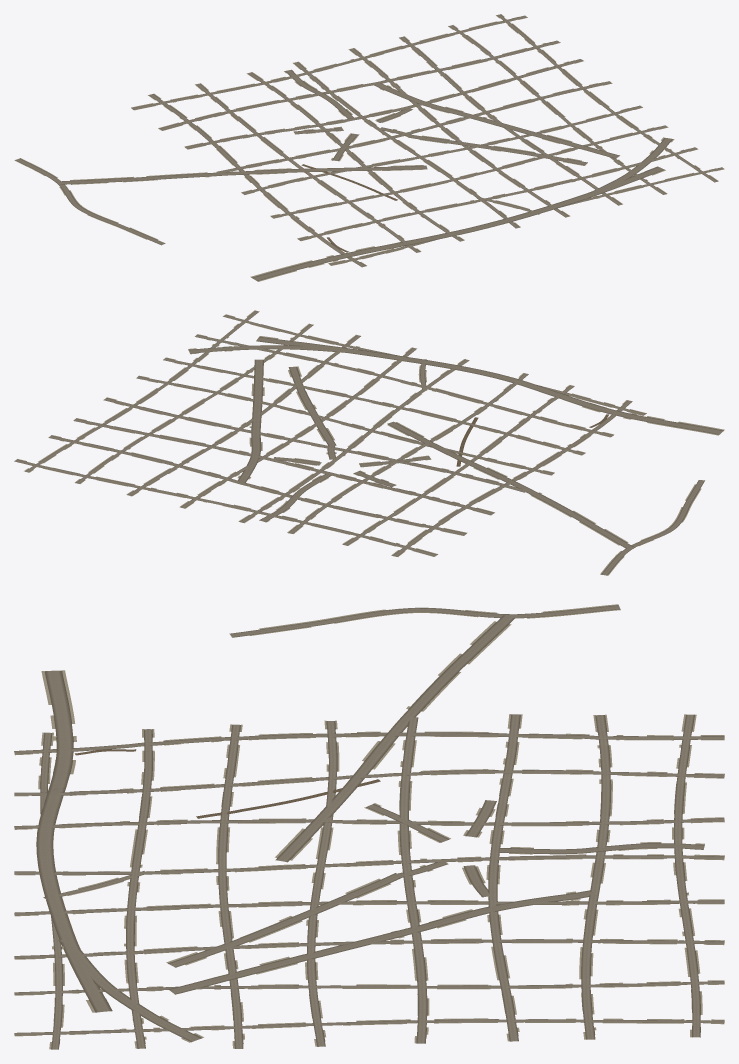
File: city_roads.gltf
3 views of the same model, one above another, from view 1: azimuth 30°, elevation 25°; view 2: azimuth 150°, elevation 25°; view 3: azimuth 270°, elevation 25° (orthographic). The views are drawn at different scales.
Visible parts, largest first — view 1: SM_roads_cobble_base, SM_roads_sidewalk_concrete, SM_roads_curb_granite; view 2: SM_roads_cobble_base, SM_roads_sidewalk_concrete, SM_roads_curb_granite; view 3: SM_roads_cobble_base, SM_roads_sidewalk_concrete, SM_roads_curb_granite, SM_roads_dirt_road.
Part boxes in pixels (x1,y1,x2,y2): SM_roads_cobble_base: (15, 14, 723, 281); SM_roads_sidewalk_concrete: (14, 14, 724, 281); SM_roads_curb_granite: (20, 14, 717, 277); SM_roads_cobble_base: (14, 310, 723, 575); SM_roads_sidewalk_concrete: (17, 310, 724, 575); SM_roads_curb_granite: (17, 311, 723, 574); SM_roads_cobble_base: (14, 605, 724, 1049); SM_roads_sidewalk_concrete: (14, 604, 724, 1049); SM_roads_curb_granite: (40, 605, 724, 1049); SM_roads_dirt_road: (75, 749, 380, 818).
Size of the model in its own units: 596 by 13.98 by 420.
4 materials, 4 textured.
